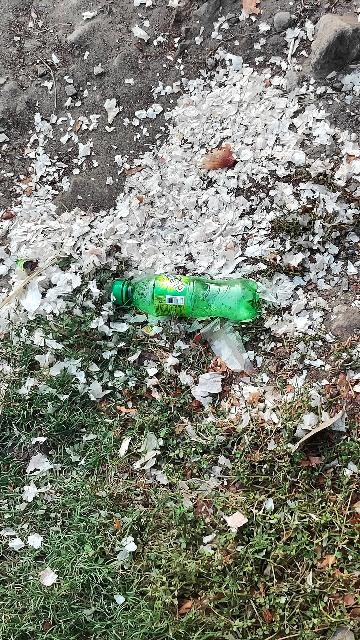bottle: (100, 272, 263, 324)
